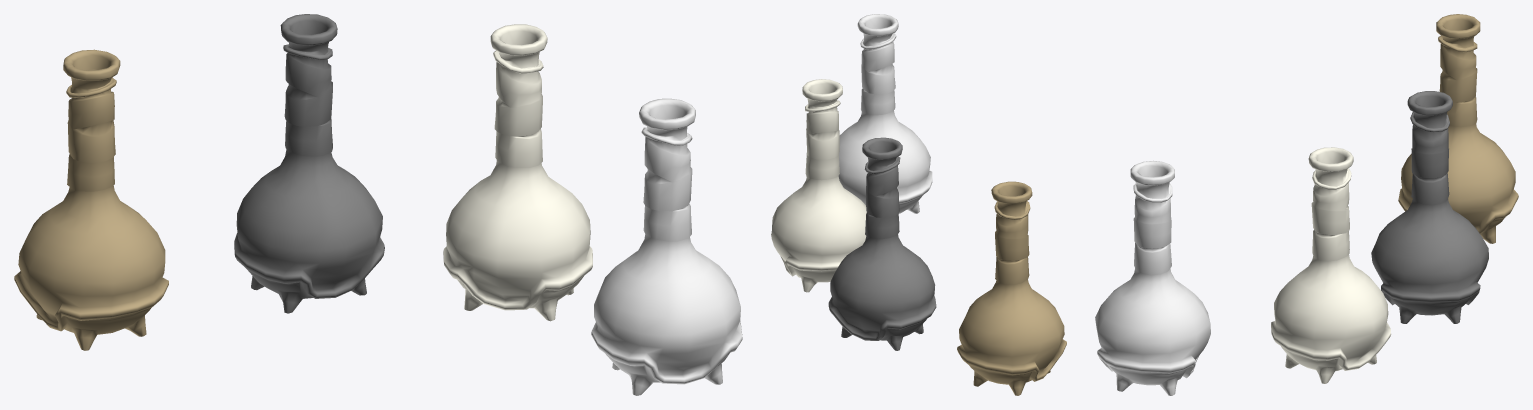
Rendered from bottles.fbx.
The picture shows the model from 3 angles, left to right: view 1: azimuth 30°, elevation 25°; view 2: azimuth 150°, elevation 25°; view 3: azimuth 270°, elevation 25°; orthographic projection. The views are drawn at different scales.
Visible parts, largest first — view 1: bottle (×4); view 2: bottle (×4); view 3: bottle (×4).
Boxes of the visible parts, x1,y1,x2,y2 form: bottle (×4): [14, 14, 742, 395]; bottle (×4): [771, 14, 1066, 395]; bottle (×4): [1095, 14, 1518, 395].
Size of the model in its own units: 48.43 by 24.15 by 44.14.
